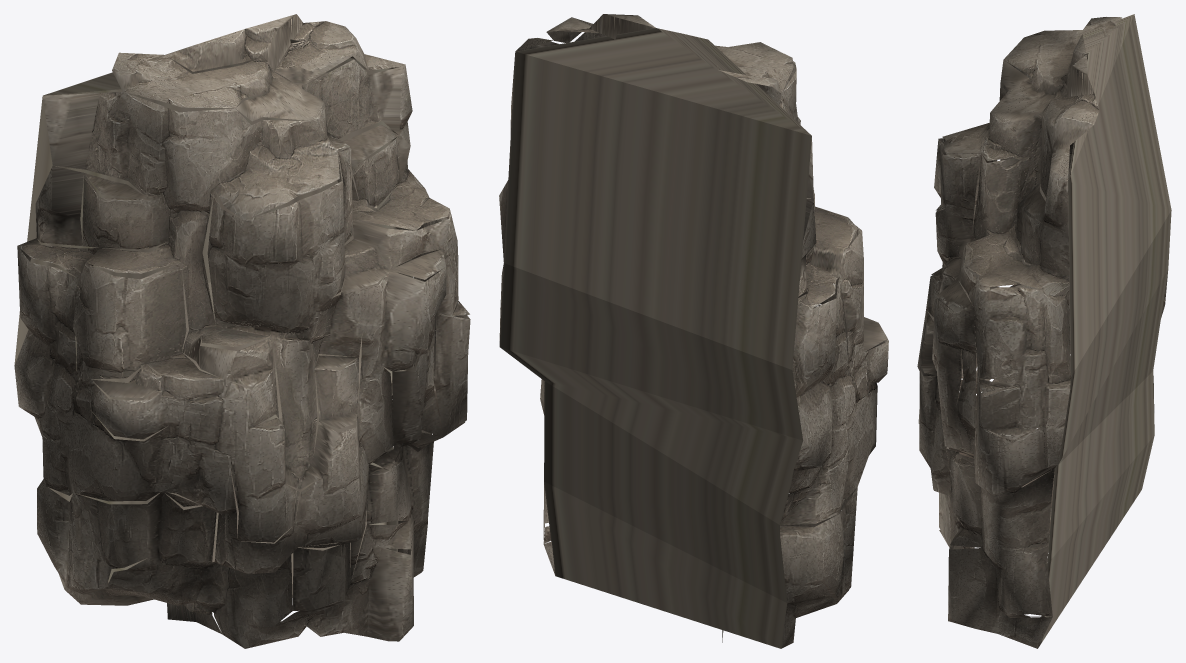
The model's file is HugeRock_01_3.FBX.
3 views of the same model, side by side, from view 1: azimuth 30°, elevation 25°; view 2: azimuth 150°, elevation 25°; view 3: azimuth 270°, elevation 25° (orthographic). The views are drawn at different scales.
Parts seen in each view (by area): view 1: HugeRock_01_high; view 2: HugeRock_01_high; view 3: HugeRock_01_high.
Boxes of the visible parts, box(x1,y1,x2,y2) form: HugeRock_01_high: box(14, 14, 470, 648); HugeRock_01_high: box(499, 14, 888, 648); HugeRock_01_high: box(917, 14, 1171, 648).
Bounding box in the file's own units: 11.41 × 17.3 × 7.38.
1 material, 1 textured.
